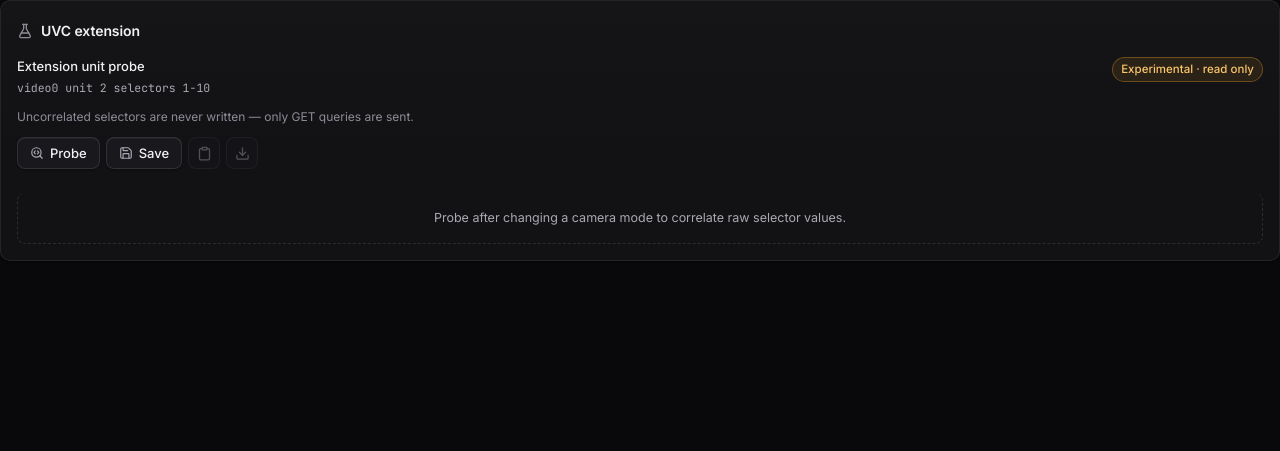
ExperimentalPanel › saves UVC snapshots through the backend
Click the button "Save".
click(144, 153)  # box [106, 137, 182, 169]
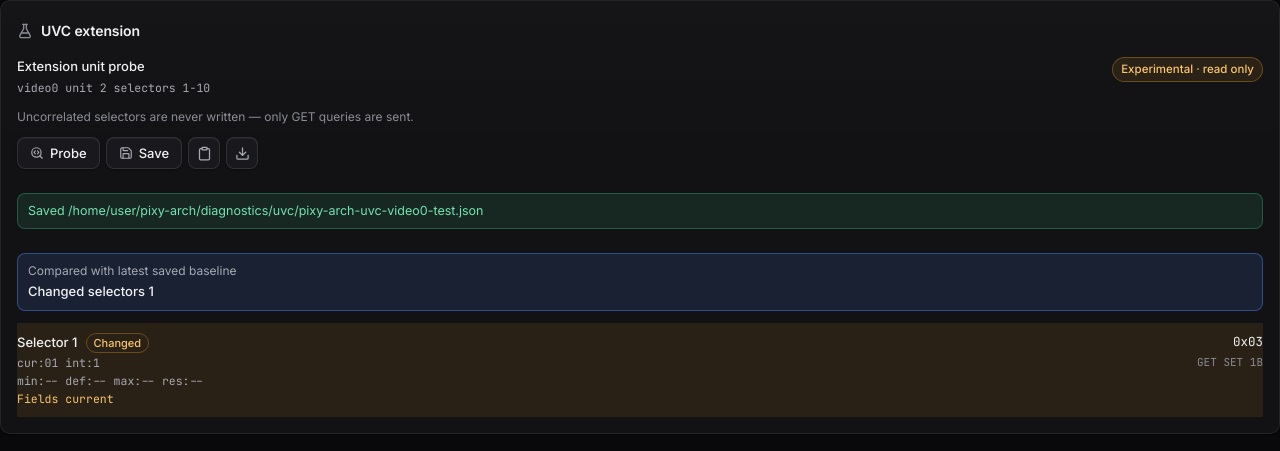
Check: the text "diagnostics/uvc/pixy-arch-uvc-video0-test.json" is shown, box [28, 203, 484, 218]
